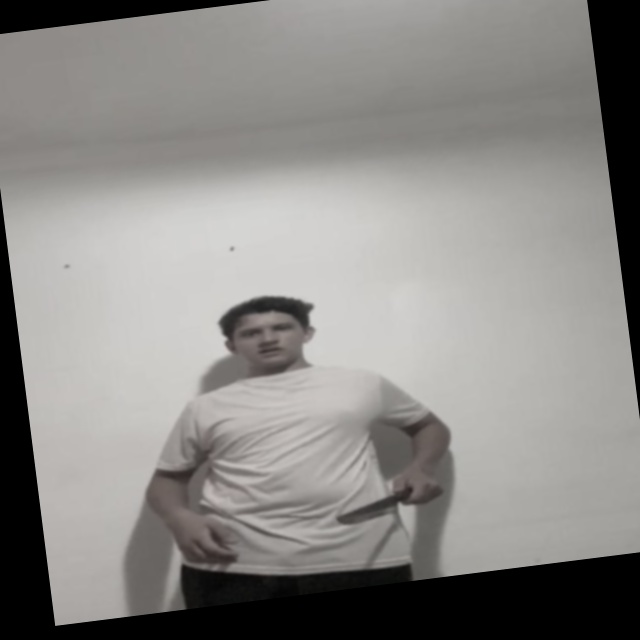Sharp-Object: (330, 492, 402, 530)
